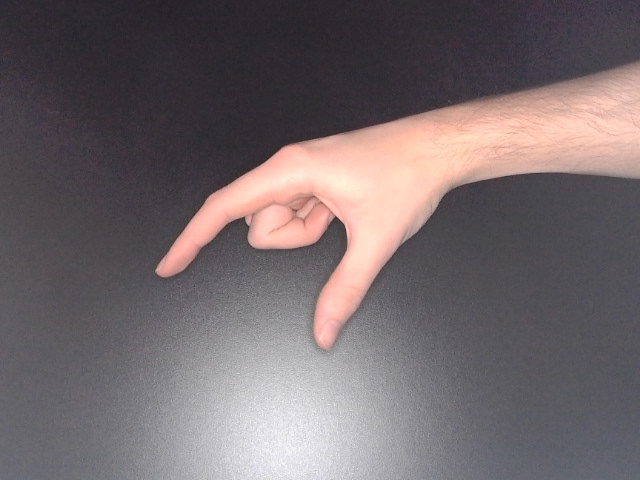q: (148, 109, 505, 361)
